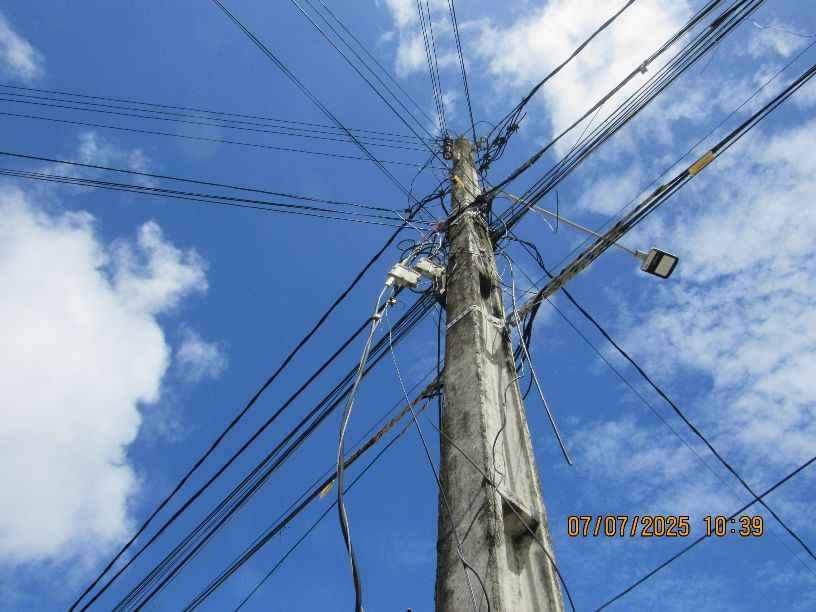coaxial: (369, 227, 457, 331)
fibra_optica: (515, 146, 727, 334), (311, 376, 444, 514)
poste: (413, 135, 548, 612)
